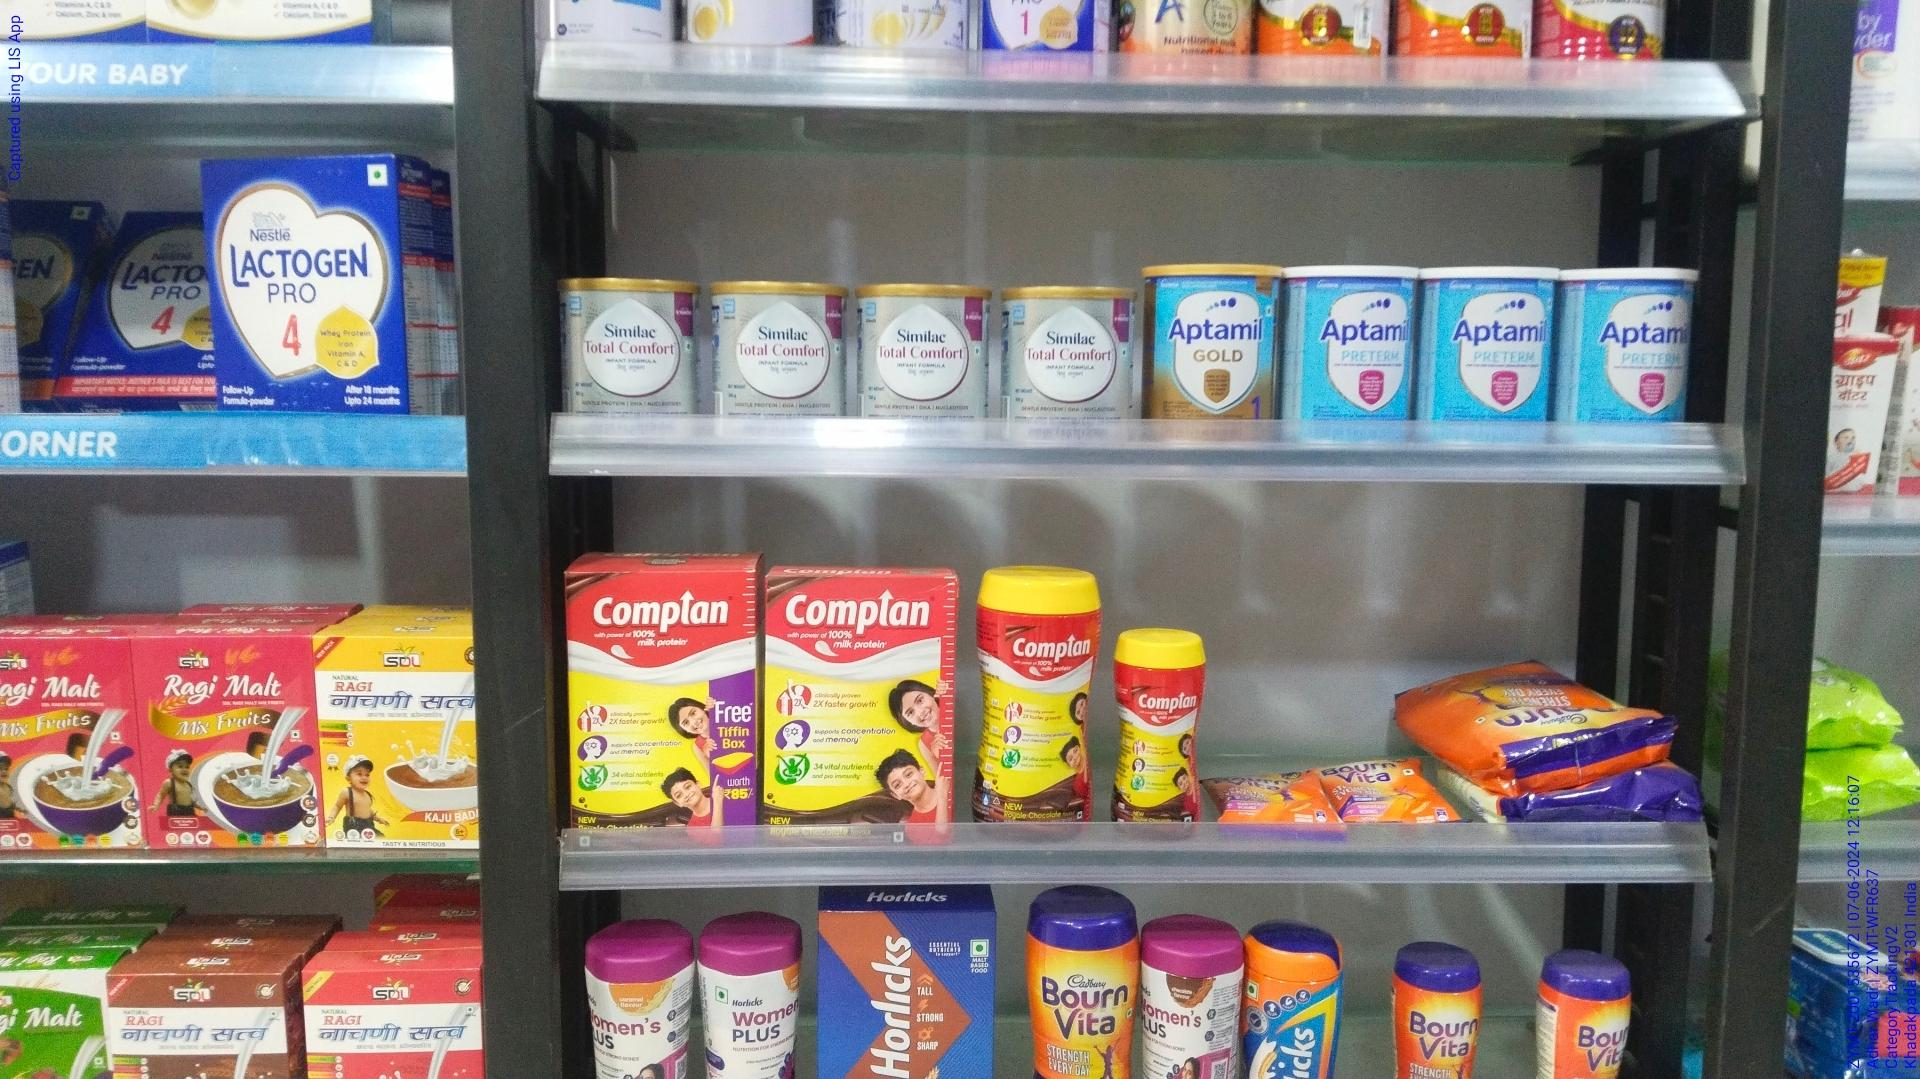COMPLAN_CHOCOLATE_200_GMS_JAR: (1112, 628, 1209, 848)
COMPLAN_CHOCOLATE_500_GMS_JAR: (973, 575, 1089, 840)
COMPLAN_CHOCOLATE_500_GMS_PACK: (567, 569, 749, 846), (765, 572, 947, 847)
